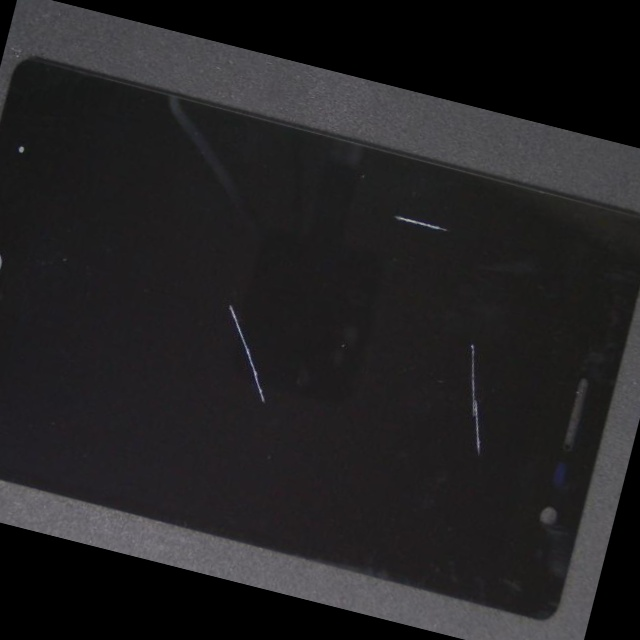scratch: (218, 154, 640, 477), (221, 88, 640, 303)
